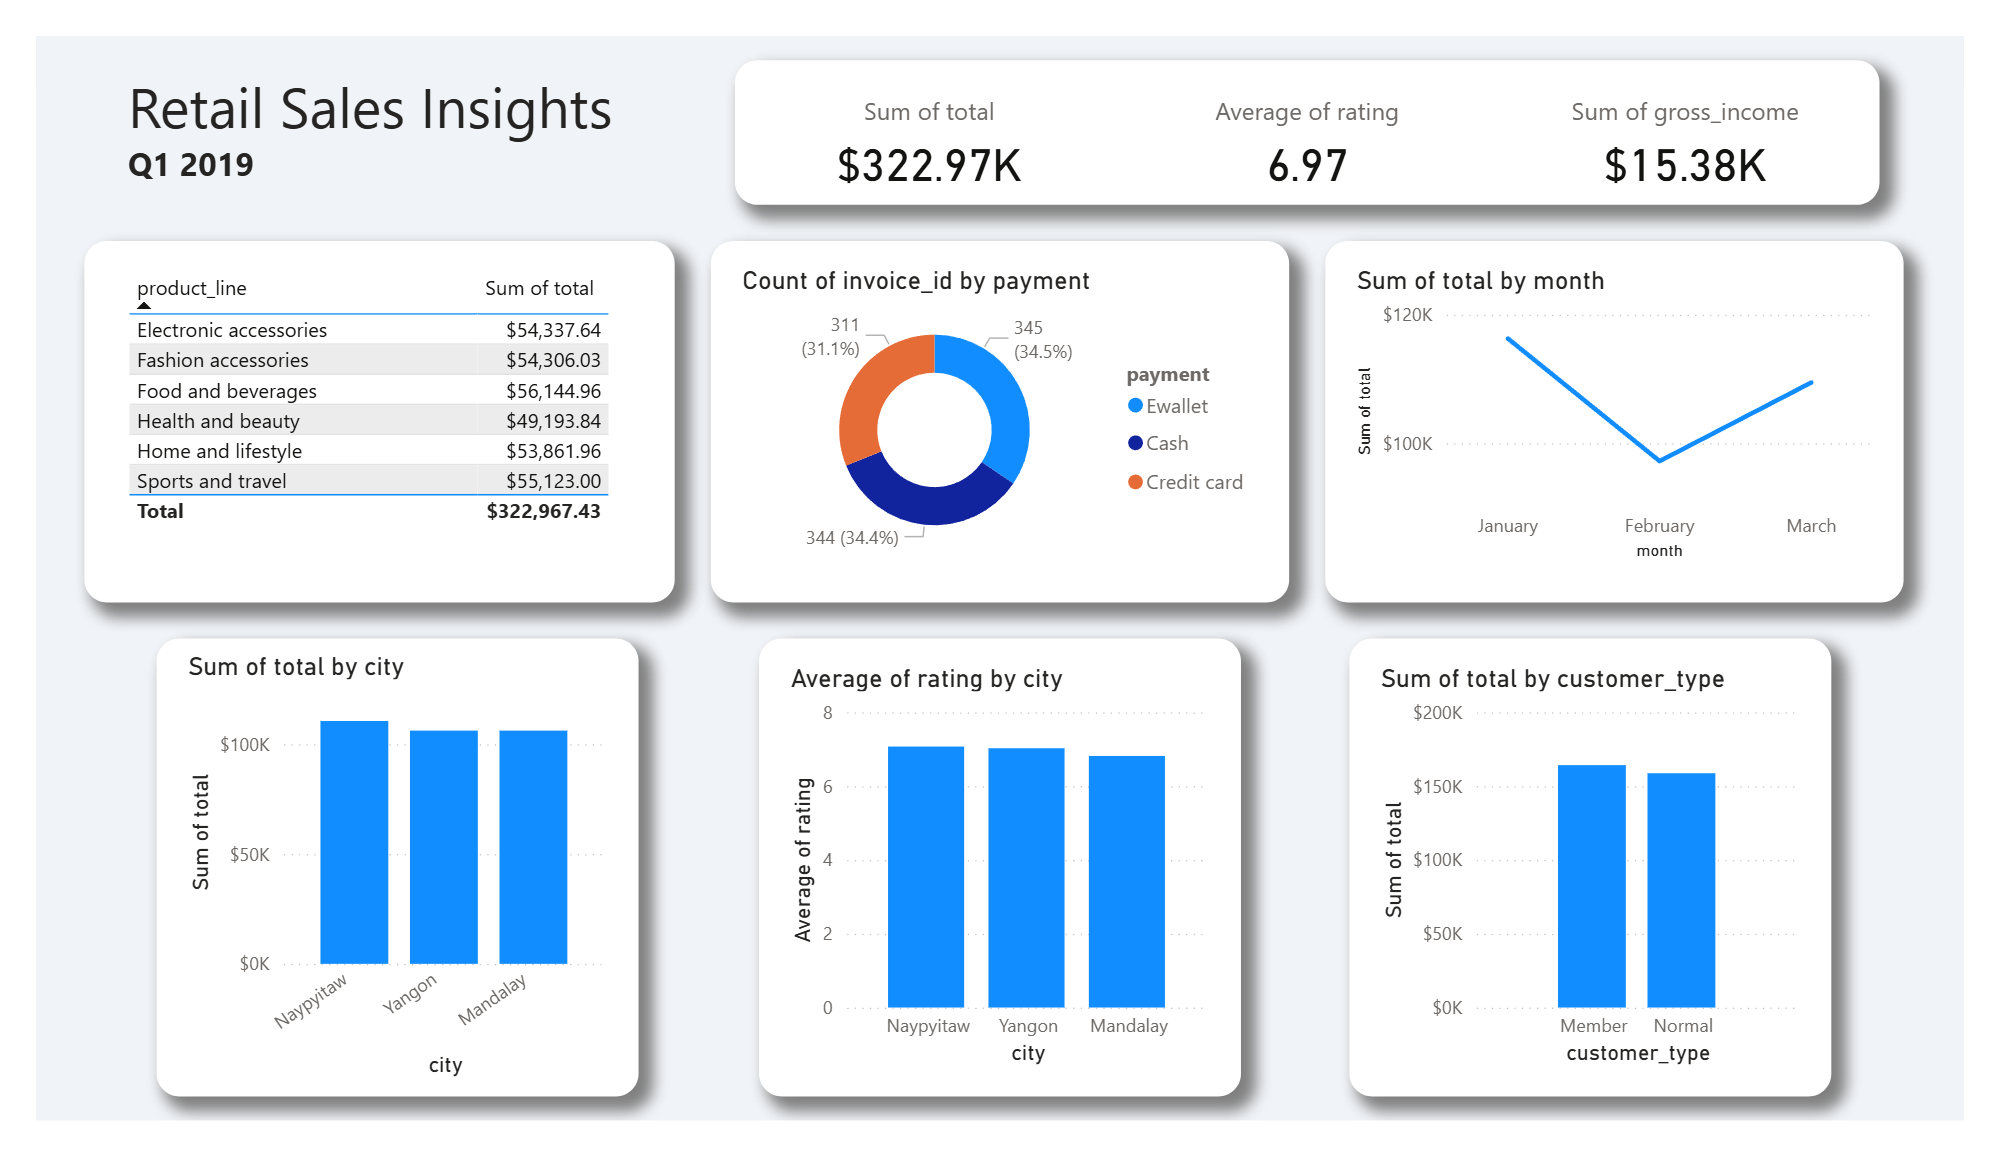

What the dashboard file says about the page in this screenshot:
{"tool":"powerbi","page":{"name":"Page 1","canvas":[1280,720],"ordinal":0},"visuals":[{"type":"shape","box":[872,400,320,304],"z":1000},{"type":"shape","box":[480,400,320,304],"z":2000},{"type":"shape","box":[80,400,320,304],"z":3000},{"type":"shape","box":[856,136,384,240],"z":4000},{"type":"shape","box":[448,136,384,240],"z":5000},{"type":"shape","box":[32,136,392,240],"z":6000},{"type":"clusteredColumnChart","fields":{"Y":["Sum(public supermarket_sales.total)"],"Category":["public supermarket_sales.city"]},"box":[96,408,288,288],"z":7000},{"type":"tableEx","fields":{"Values":["public supermarket_sales.product_line","Sum(public supermarket_sales.total)"]},"box":[56,152,344,200],"z":8000},{"type":"lineChart","fields":{"Category":["public supermarket_sales.month"],"Y":["Sum(public supermarket_sales.total)"]},"box":[872,152,352,200],"z":9000},{"type":"clusteredColumnChart","fields":{"Y":["Avg(public supermarket_sales.rating)"],"Category":["public supermarket_sales.city"]},"box":[496,416,288,272],"z":10000},{"type":"clusteredColumnChart","fields":{"Category":["public supermarket_sales.customer_type"],"Y":["Sum(public supermarket_sales.total)"]},"box":[888,416,288,272],"z":11000},{"type":"donutChart","fields":{"Category":["public supermarket_sales.payment"],"Y":["CountNonNull(public supermarket_sales.invoice_id)"]},"box":[464,152,352,200],"z":12000},{"type":"cardVisual","fields":{"Data":["Sum(public supermarket_sales.total)","Avg(public supermarket_sales.rating)","Sum(public supermarket_sales.gross_income)"]},"box":[464,16,760,96],"z":13000},{"type":"textbox","box":[56,16,344,96],"z":14000}]}

Visuals, with their boxes in screenshot pixels (x1, y1, x2, y2), scaled from the page's 1280x720 canvas onto the 2000x1156 screenshot:
shape: pyautogui.locateOnScreen(1362, 642, 1862, 1130)
shape: pyautogui.locateOnScreen(750, 642, 1250, 1130)
shape: pyautogui.locateOnScreen(125, 642, 625, 1130)
shape: pyautogui.locateOnScreen(1338, 218, 1938, 604)
shape: pyautogui.locateOnScreen(700, 218, 1300, 604)
shape: pyautogui.locateOnScreen(50, 218, 662, 604)
clusteredColumnChart - Sum(public supermarket_sales.total) x public supermarket_sales.city: pyautogui.locateOnScreen(150, 655, 600, 1117)
tableEx - public supermarket_sales.product_line x Sum(public supermarket_sales.total): pyautogui.locateOnScreen(88, 244, 625, 565)
lineChart - public supermarket_sales.month x Sum(public supermarket_sales.total): pyautogui.locateOnScreen(1362, 244, 1912, 565)
clusteredColumnChart - Avg(public supermarket_sales.rating) x public supermarket_sales.city: pyautogui.locateOnScreen(775, 668, 1225, 1105)
clusteredColumnChart - public supermarket_sales.customer_type x Sum(public supermarket_sales.total): pyautogui.locateOnScreen(1388, 668, 1838, 1105)
donutChart - public supermarket_sales.payment x CountNonNull(public supermarket_sales.invoice_id): pyautogui.locateOnScreen(725, 244, 1275, 565)
cardVisual - Sum(public supermarket_sales.total) x Avg(public supermarket_sales.rating): pyautogui.locateOnScreen(725, 26, 1912, 180)
textbox: pyautogui.locateOnScreen(88, 26, 625, 180)
